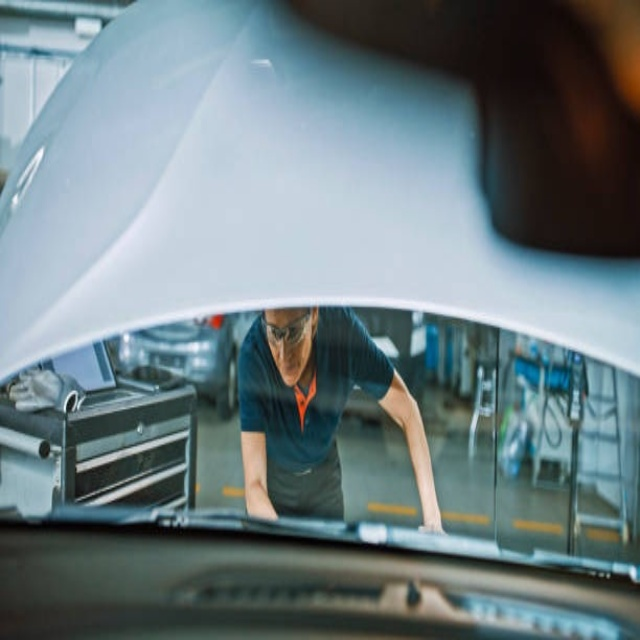Gafas: (263, 311, 312, 346)
